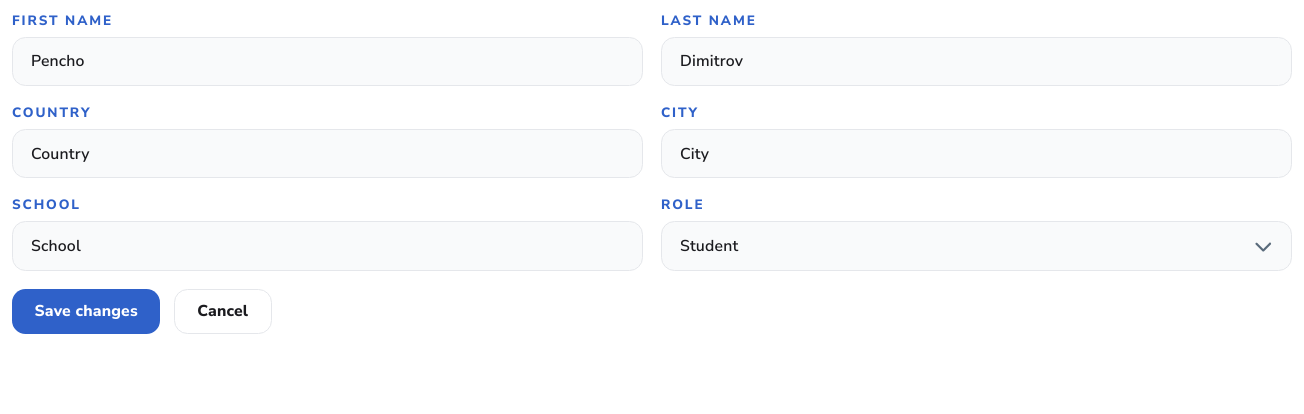
Test: UserEditForm › shows error message when saving fails
Step 1. Click the button "Save changes" → coordinates (86, 311), box [12, 289, 160, 334]
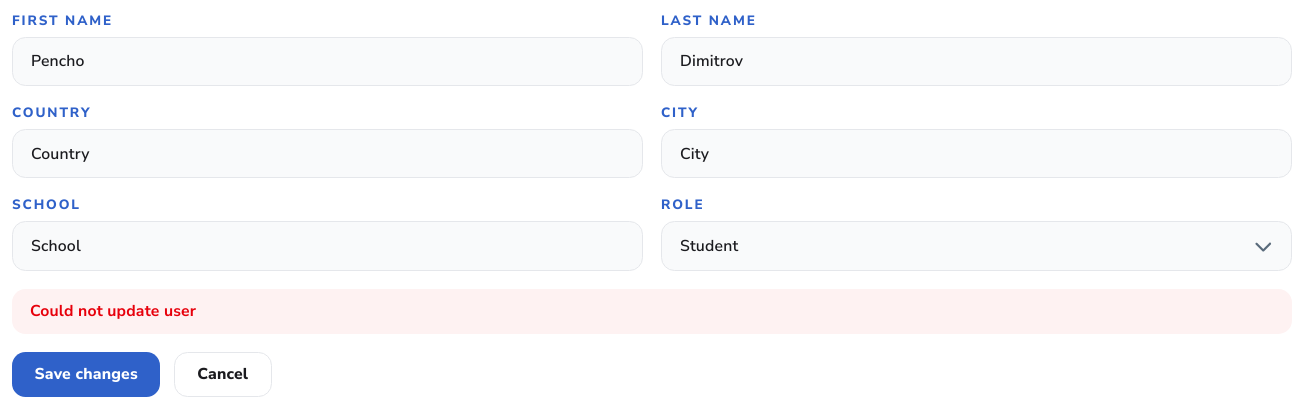
Expected: the button "Save changes" is enabled, [12, 352, 160, 397]
Expected: the text "Could not update user" is shown, [12, 289, 1292, 334]
